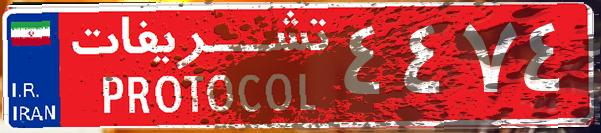4: (340, 20, 400, 115), (400, 20, 460, 115), (520, 20, 580, 115)
7: (460, 20, 520, 115)
تشریفات: (60, 8, 340, 125)
